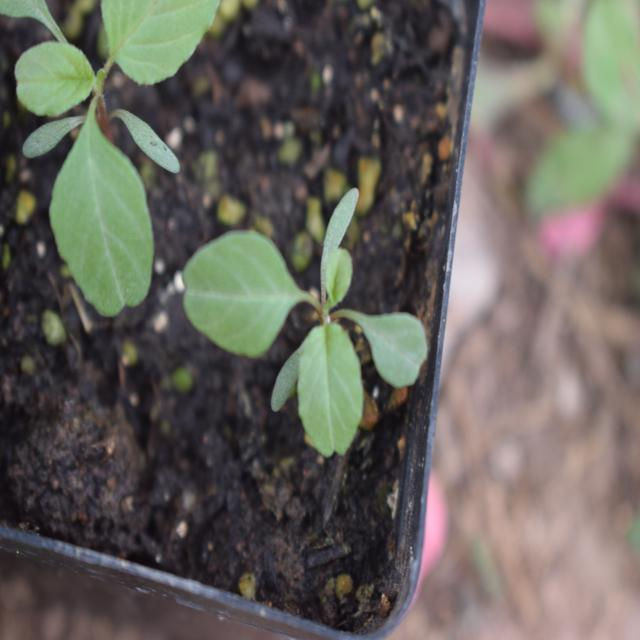pigweed: (161, 174, 417, 464)
